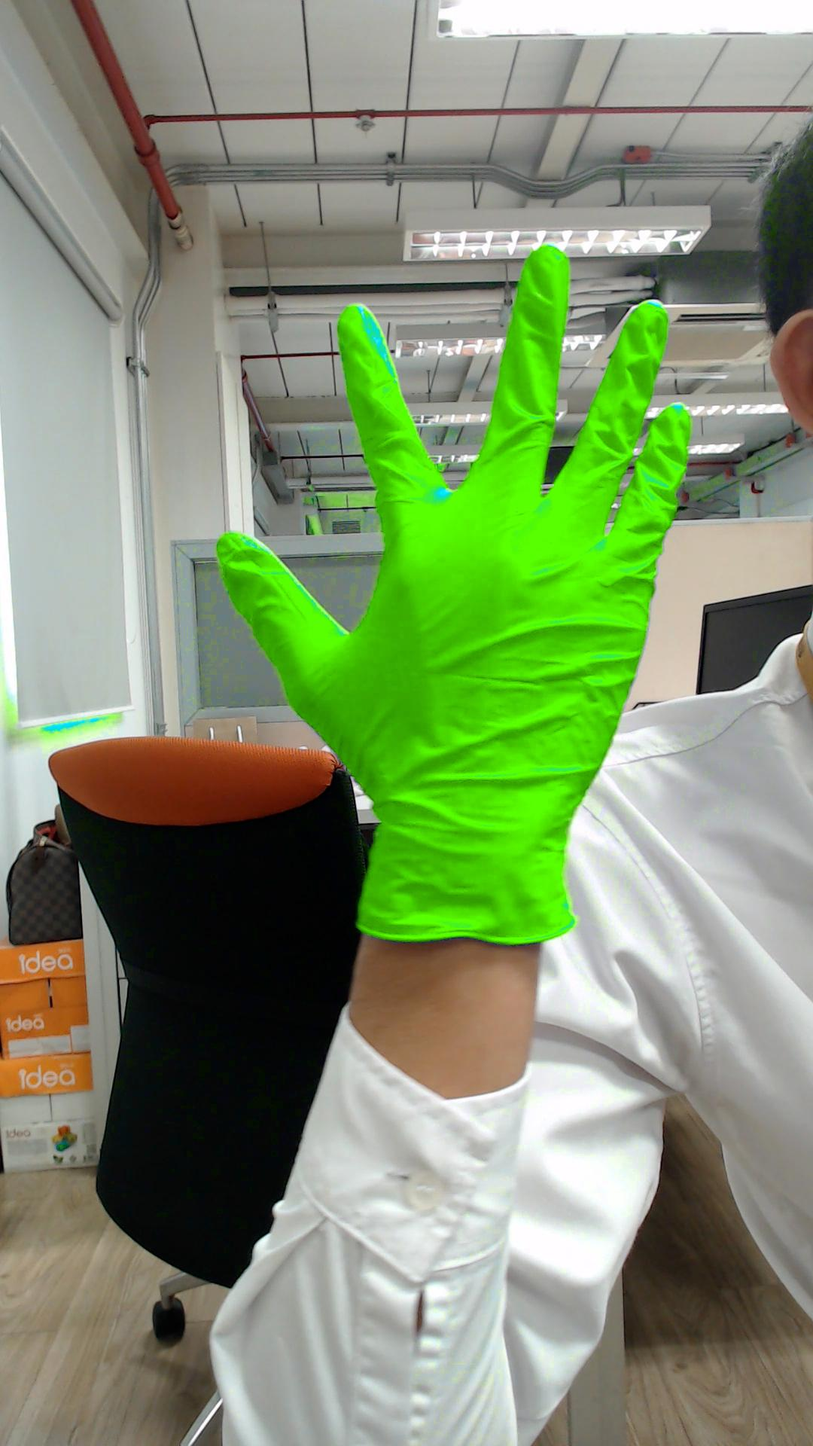gloves: (208, 222, 701, 772)
